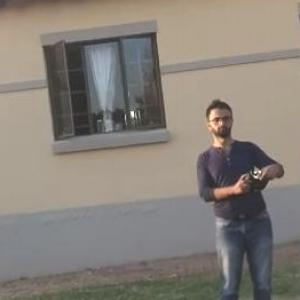follow: (190, 90, 292, 299)
